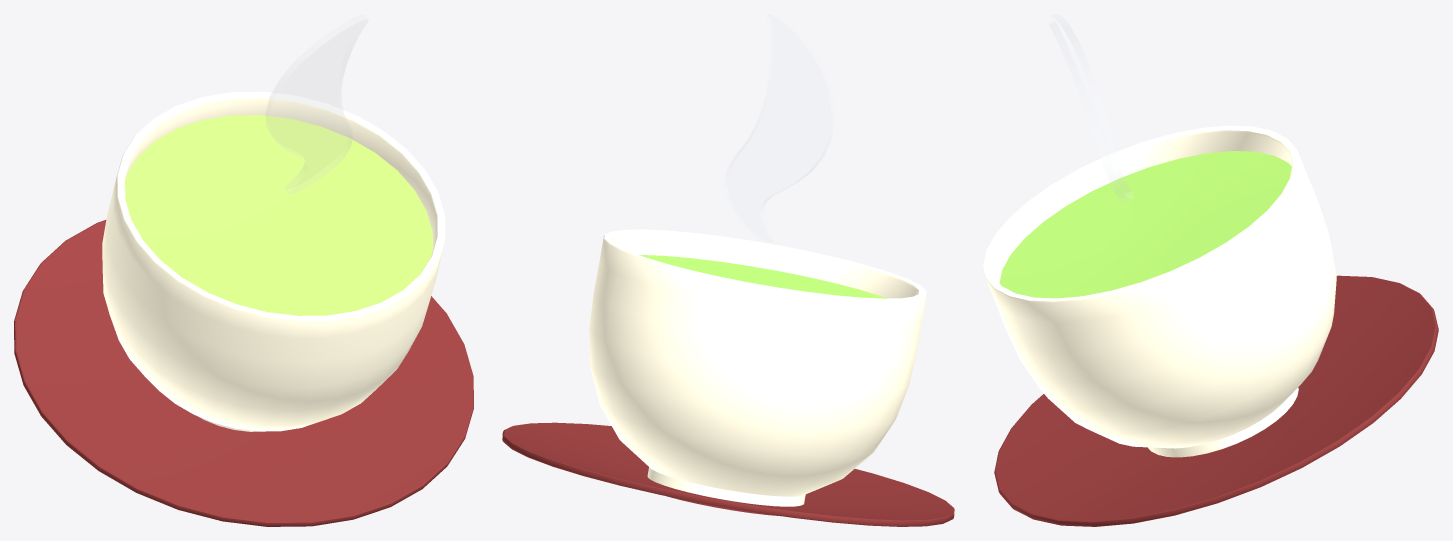
The model's file is teacup_without_handle.gltf.
3 views of the same model, side by side, from view 1: azimuth 30°, elevation 25°; view 2: azimuth 150°, elevation 25°; view 3: azimuth 270°, elevation 25° (orthographic). The views are drawn at different scales.
Visible parts, largest first — view 1: Sphere.502; view 2: Sphere.502; view 3: Sphere.502.
Boxes of the visible parts, <box> form: Sphere.502: <box>14,14,473,526</box>; Sphere.502: <box>502,14,954,526</box>; Sphere.502: <box>983,14,1438,526</box>.
Bounding box in the file's own units: 1.91 × 2.14 × 1.85.
Materials: 2 (1 with a texture image).
